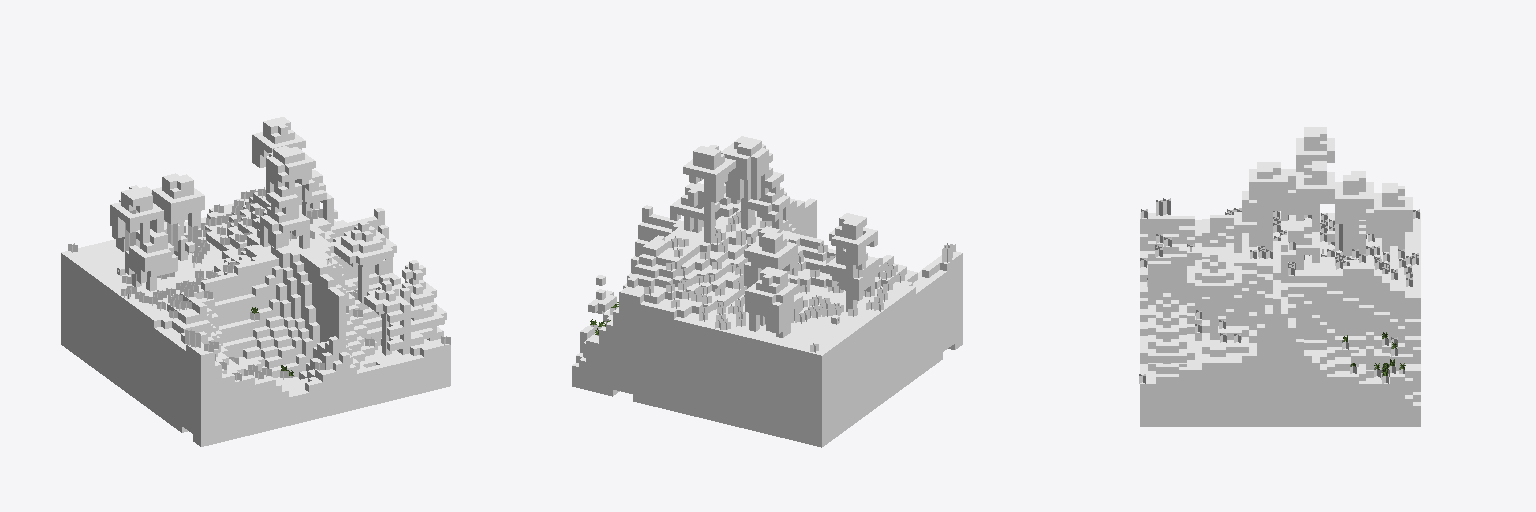
3 renders of one model, left to right at view 1: azimuth 30°, elevation 25°; view 2: azimuth 150°, elevation 25°; view 3: azimuth 270°, elevation 25°, orthographic.
Visible parts, largest first — view 1: mc_world4; view 2: mc_world4; view 3: mc_world4.
Part boxes in pixels (left/top/right/bottom): mc_world4: left=61, top=117, right=450, bottom=446; mc_world4: left=572, top=136, right=962, bottom=447; mc_world4: left=1139, top=127, right=1420, bottom=426.
Bounding box in the file's own units: 37.09 × 31 × 36.14.
44 materials, 1 textured.